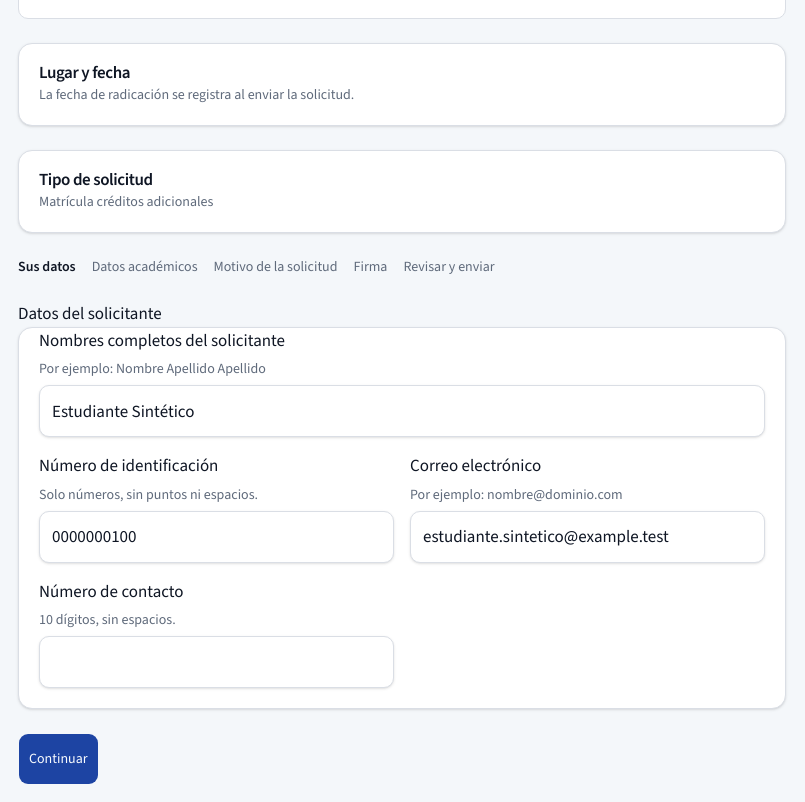
Test: PublicAdditionalCreditsPage › keeps the selected catalog value byte-for-byte through review and submission
This screenshot has width=805, height=802.
Earlier steps of the test are not shown.
Later steps or results of the test are not shown.
(page scrolled)
Type "0000000000" into the field with id "studentPhone".
click(216, 662); type("0000000000")  # box [39,636,394,688]
Click the button "Continuar".
click(58, 759)  # box [18,733,99,785]
(page scrolled)
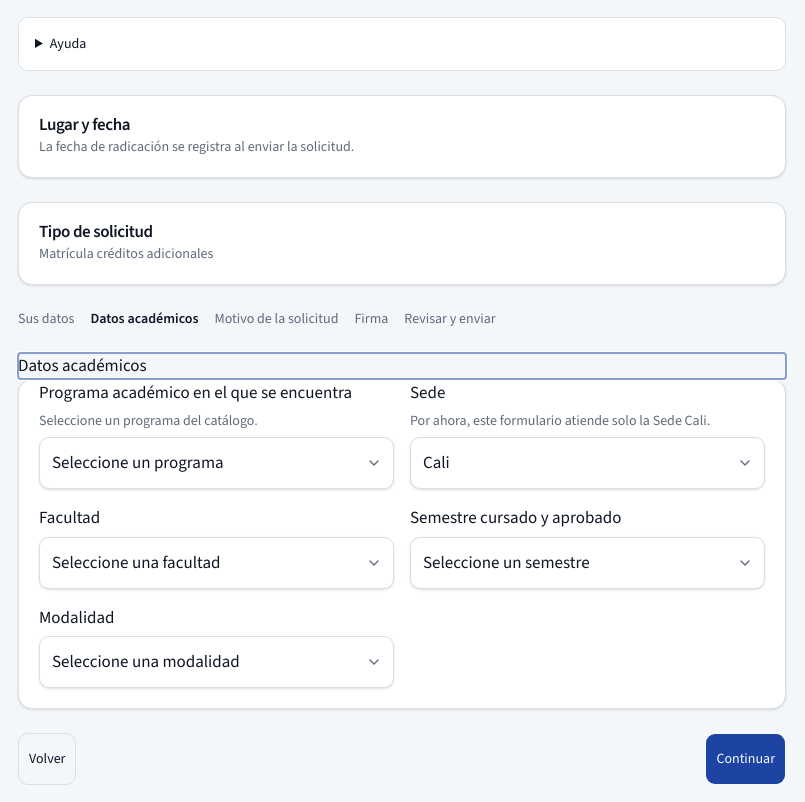
Expected: the heading "Datos académicos" is shown, [18,354,147,377]
Expected: the dropdown labelled "Programa académico en el que se encuentra" is enabled
Select "Programa con espacios" in the dropdown labelled "Programa académico en el que se encuentra" at (216, 463), box [39,437,394,489]
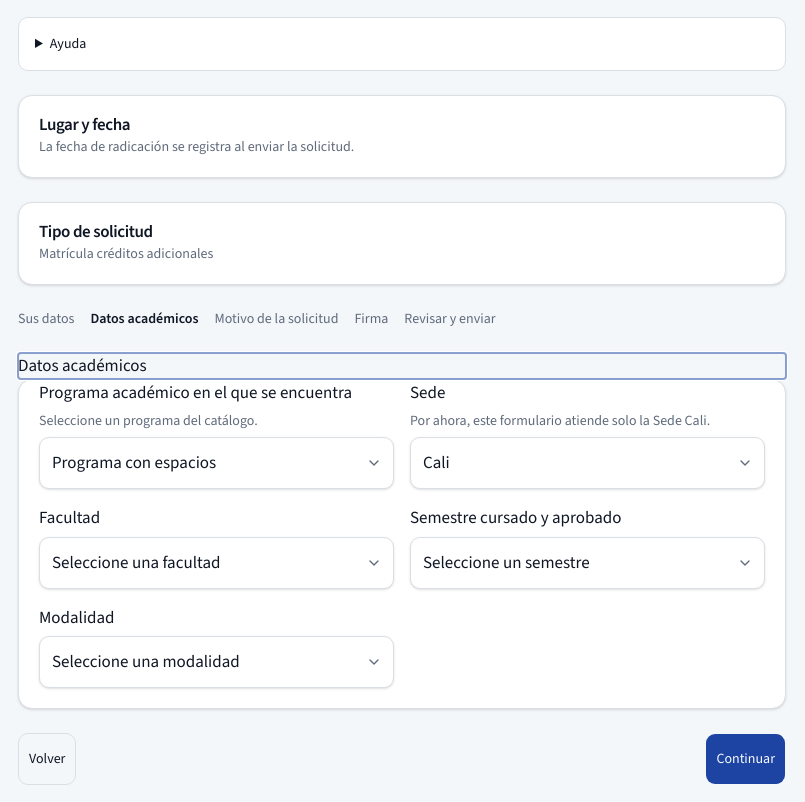
Select "Cali" in the dropdown with id "campus" at (588, 463), box [410,437,765,489]
Select "Ingenierías" in the dropdown with id "faculty" at (216, 562), box [39,536,394,588]
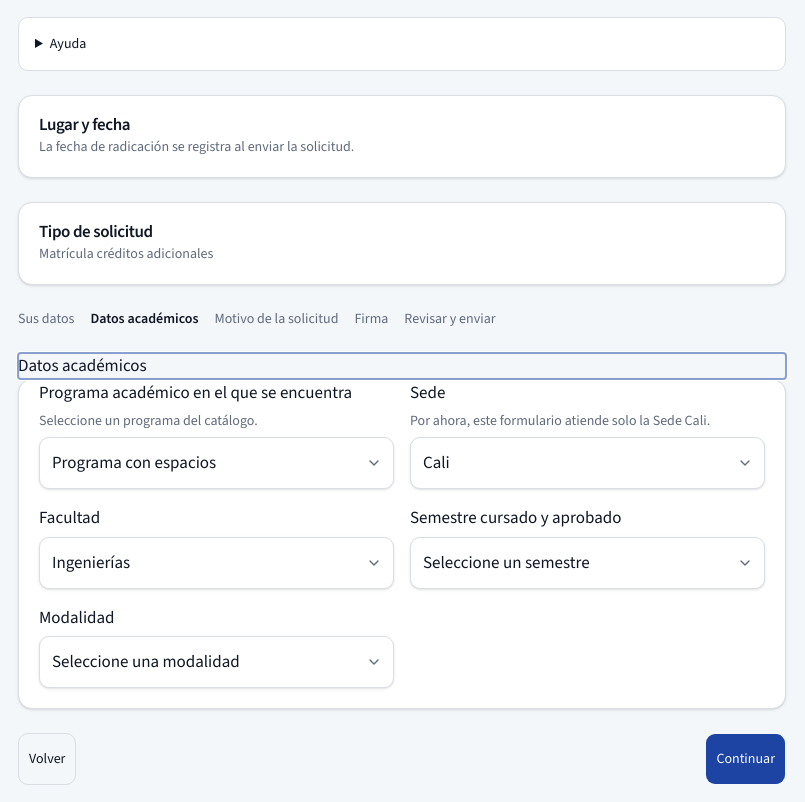
Select "Presencial" in the dropdown with id "modality" at (216, 662), box [39,636,394,688]
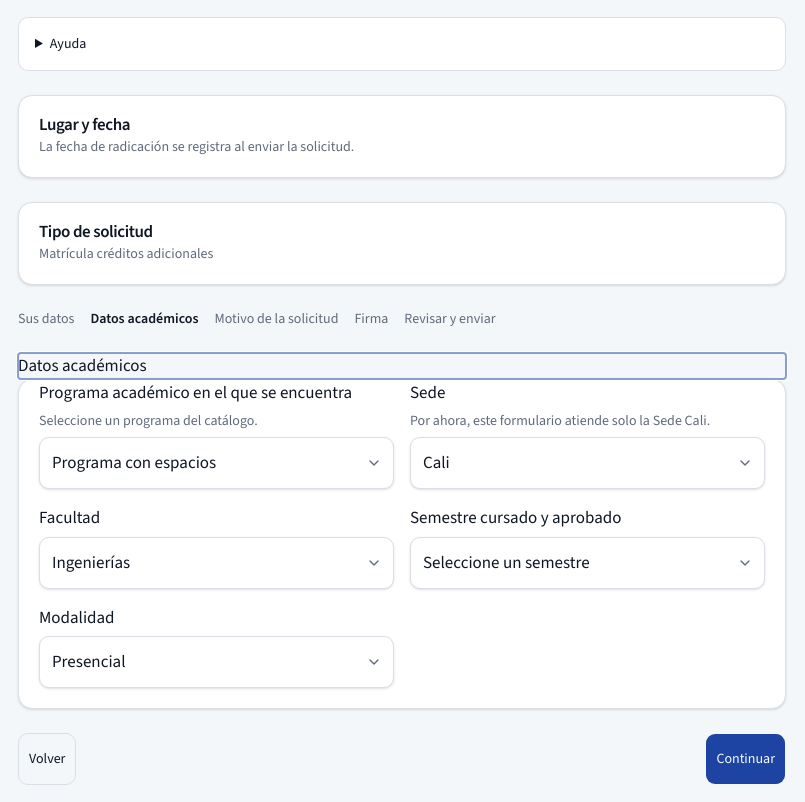
Select "8" in the dropdown with id "semester" at (588, 562), box [410,536,765,588]
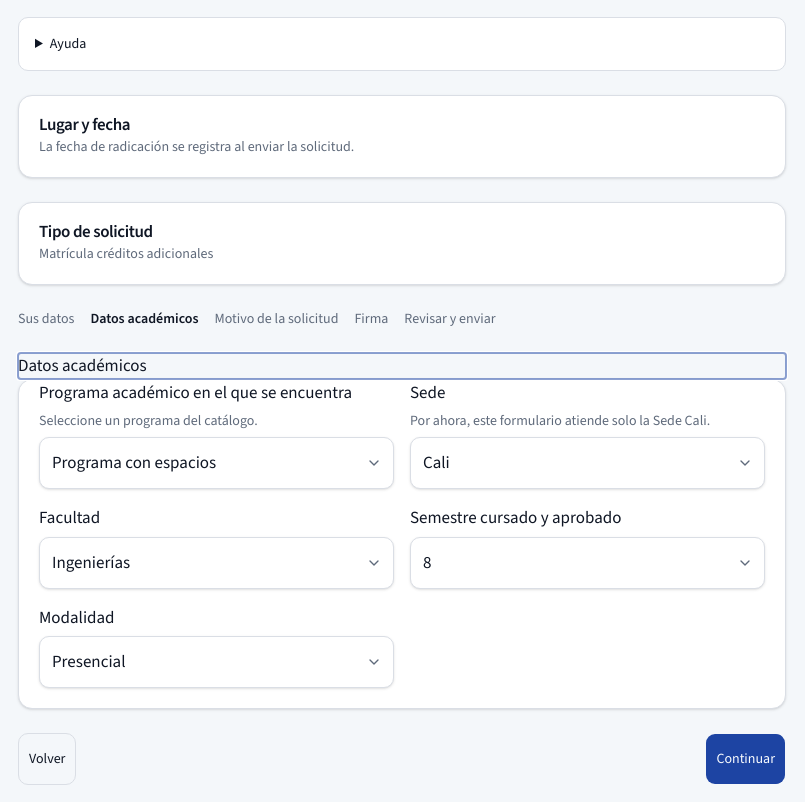
Click the button "Continuar".
click(746, 759)  # box [705,733,786,785]
(page scrolled)
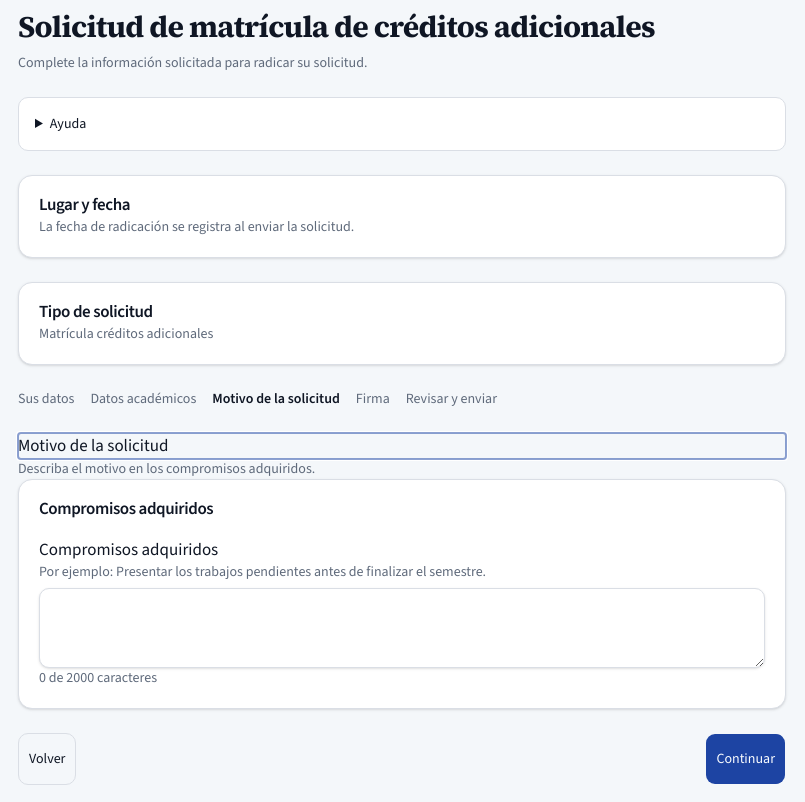
Expected: the heading "Motivo de la solicitud" is shown, [18,434,168,457]
